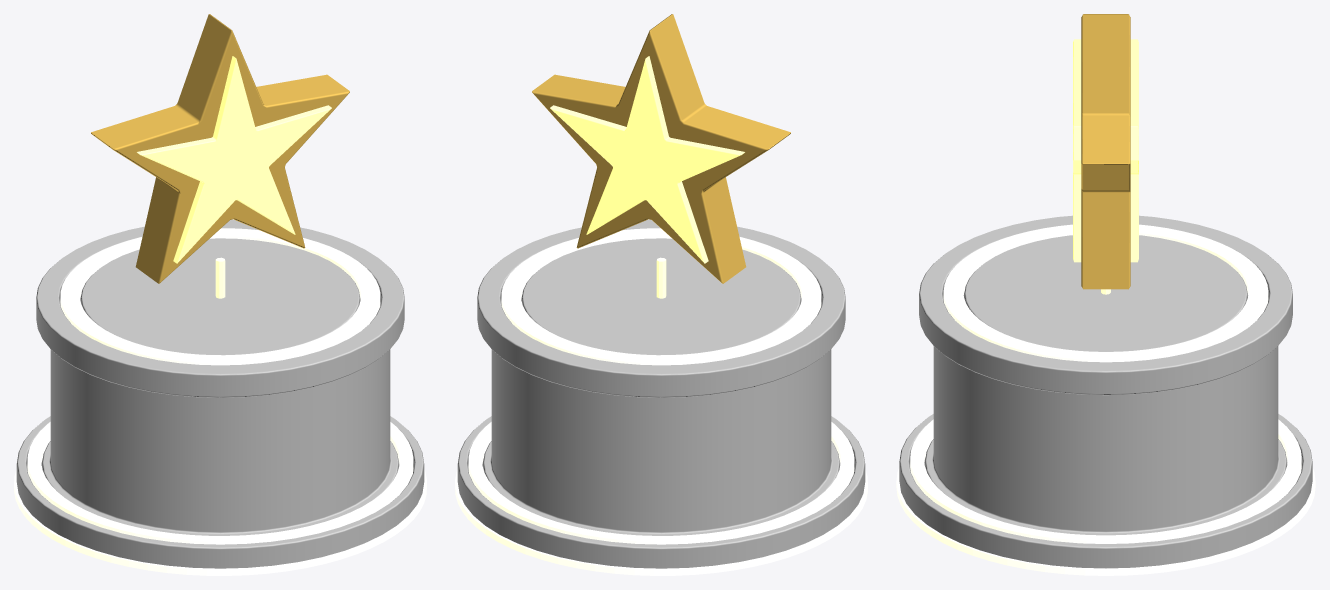
Rendered from Lobby_PED_Star.fbx.
3 views of the same model, side by side, from view 1: azimuth 30°, elevation 25°; view 2: azimuth 150°, elevation 25°; view 3: azimuth 270°, elevation 25° (orthographic).
Parts seen in each view (by area): view 1: PedestalMarble__Star, Glyph_StarGold__Star, Glyph_StarFace__StarFace, PedNeon_Star__Star_TopNeon, PedNeon_Star__Star_BaseNeon, PedNeon_Star__Star_BaseNeonEdge; view 2: PedestalMarble__Star, Glyph_StarGold__Star, Glyph_StarFace__StarFace, PedNeon_Star__Star_TopNeon, PedNeon_Star__Star_BaseNeon, PedNeon_Star__Star_BaseNeonEdge; view 3: PedestalMarble__Star, Glyph_StarGold__Star, PedNeon_Star__Star_TopNeon, PedNeon_Star__Star_BaseNeon, Glyph_StarFace__StarFace, PedNeon_Star__Star_BaseNeonEdge.
Part boxes in pixels (x1,y1,x2,y2): PedestalMarble__Star: [16, 219, 424, 568]; Glyph_StarGold__Star: [91, 14, 349, 283]; Glyph_StarFace__StarFace: [137, 56, 331, 263]; PedNeon_Star__Star_TopNeon: [60, 228, 380, 365]; PedNeon_Star__Star_BaseNeon: [27, 422, 413, 544]; PedNeon_Star__Star_BaseNeonEdge: [14, 469, 426, 575]; PedestalMarble__Star: [457, 219, 865, 568]; Glyph_StarGold__Star: [532, 14, 790, 283]; Glyph_StarFace__StarFace: [550, 56, 744, 263]; PedNeon_Star__Star_TopNeon: [501, 228, 821, 365]; PedNeon_Star__Star_BaseNeon: [468, 422, 854, 544]; PedNeon_Star__Star_BaseNeonEdge: [455, 469, 867, 575]; PedestalMarble__Star: [899, 215, 1312, 568]; Glyph_StarGold__Star: [1081, 14, 1130, 289]; PedNeon_Star__Star_TopNeon: [943, 224, 1268, 362]; PedNeon_Star__Star_BaseNeon: [910, 419, 1301, 543]; Glyph_StarFace__StarFace: [1073, 39, 1138, 262]; PedNeon_Star__Star_BaseNeonEdge: [896, 468, 1315, 575].
Bounding box in the file's own units: 4.26 × 5.32 × 4.26.
